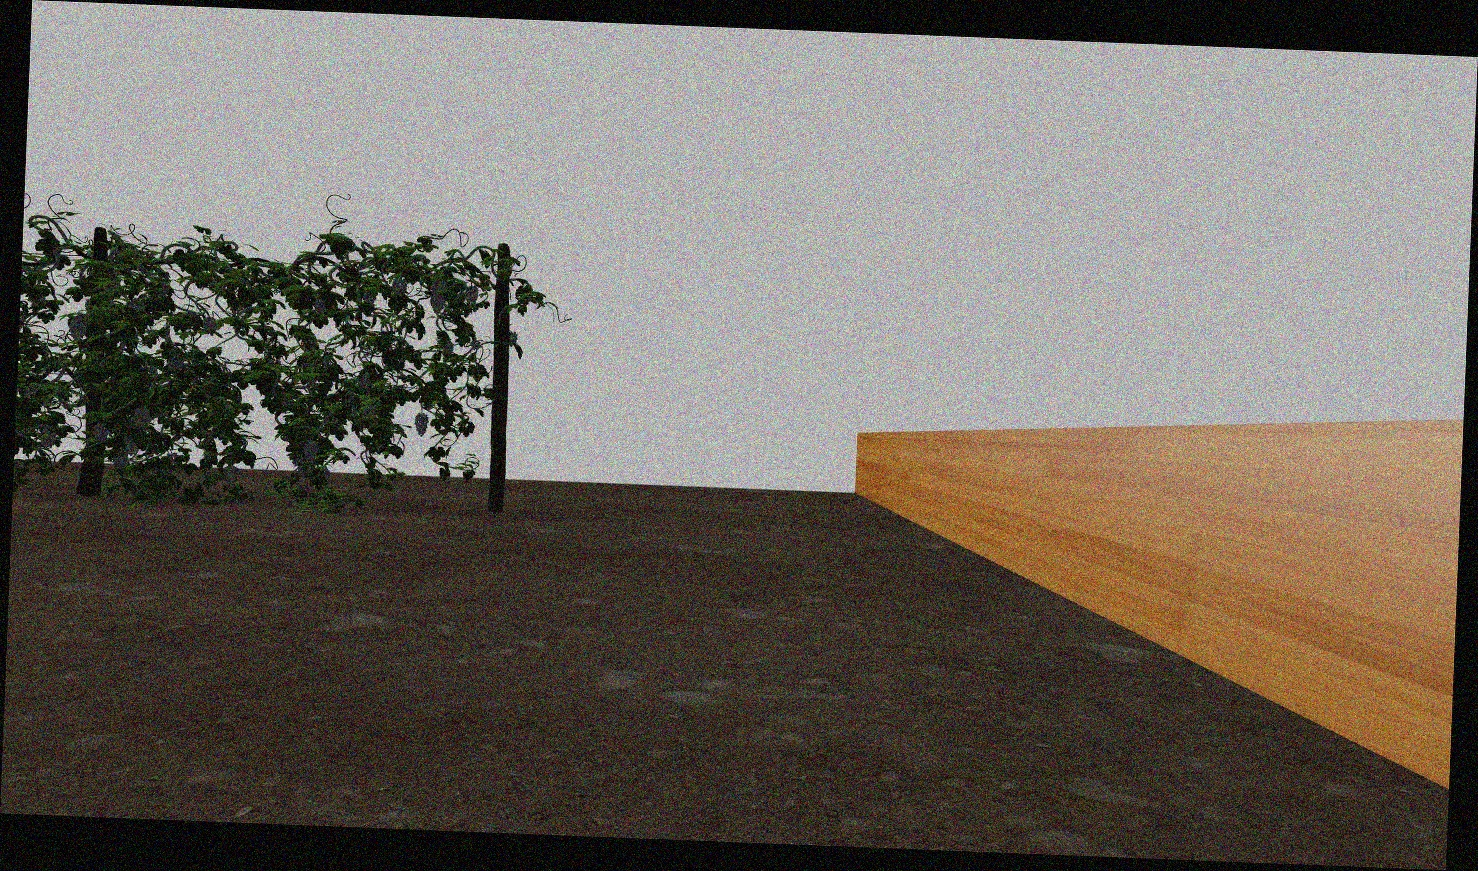grape: (68, 314, 88, 342), (221, 465, 241, 489), (38, 424, 57, 450), (133, 408, 152, 430), (414, 412, 430, 439), (302, 440, 319, 463), (91, 421, 109, 445), (123, 433, 139, 457), (391, 277, 408, 298), (431, 274, 447, 296), (112, 448, 127, 470), (464, 285, 479, 307), (203, 316, 218, 336), (431, 294, 445, 315), (440, 338, 455, 356), (508, 331, 518, 348)
